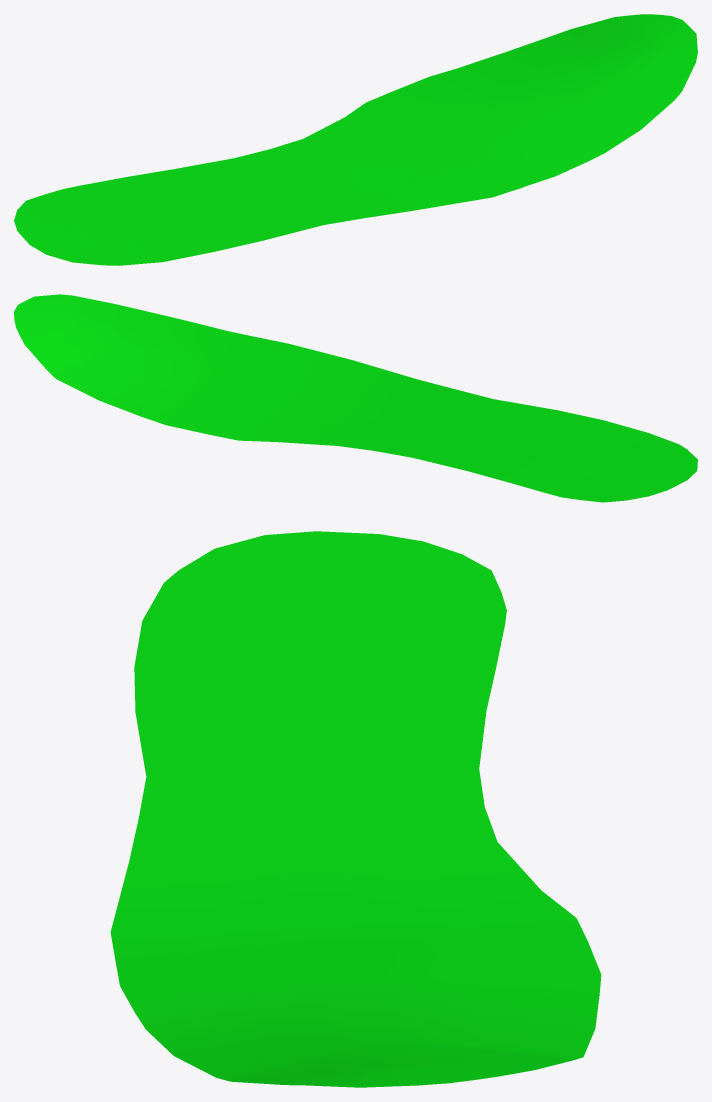
The model's file is xxl.glb.
3 views of the same model, one above another, from view 1: azimuth 30°, elevation 25°; view 2: azimuth 150°, elevation 25°; view 3: azimuth 270°, elevation 25° (orthographic). The views are drawn at different scales.
Parts seen in each view (by area): view 1: Shoes-9; view 2: Shoes-9; view 3: Shoes-9.
Part boxes in pixels (box(x1,y1,x2,y2)): Shoes-9: box(14, 14, 697, 265); Shoes-9: box(14, 294, 697, 502); Shoes-9: box(110, 531, 601, 1087).
Bounding box in the file's own units: 28.18 × 2.16 × 9.3.
